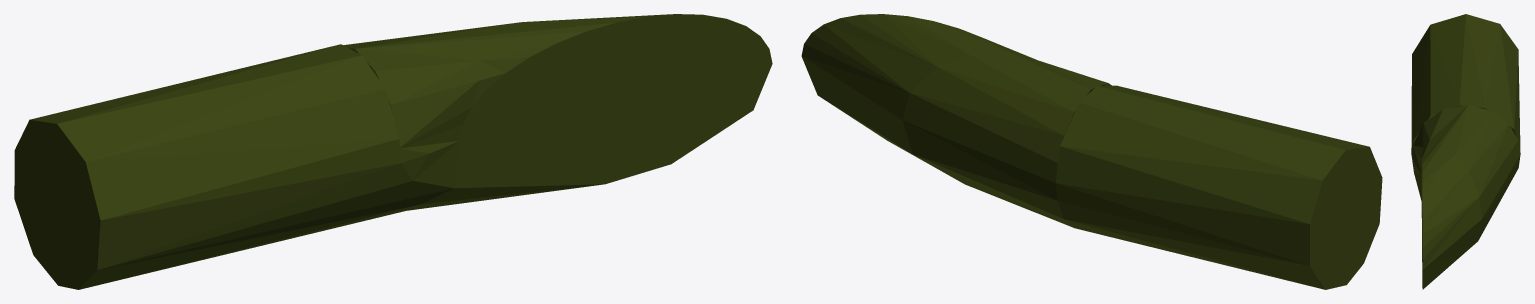
Rendered from PetiolulePrototype.obj.
The picture shows the model from 3 angles, left to right: view 1: azimuth 30°, elevation 25°; view 2: azimuth 150°, elevation 25°; view 3: azimuth 270°, elevation 25°; orthographic projection. The views are drawn at different scales.
Visible parts, largest first — view 1: petiolule; view 2: petiolule; view 3: petiolule.
Part boxes in pixels (x1,y1,x2,y2): petiolule: (14, 14, 772, 289); petiolule: (801, 14, 1382, 289); petiolule: (1411, 14, 1520, 289).
Size of the model in its own units: 0.1373 by 0.0311 by 0.0307.
